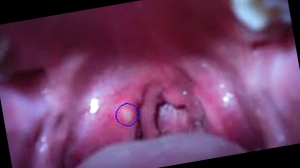Ulcer: (119, 104, 134, 124)
